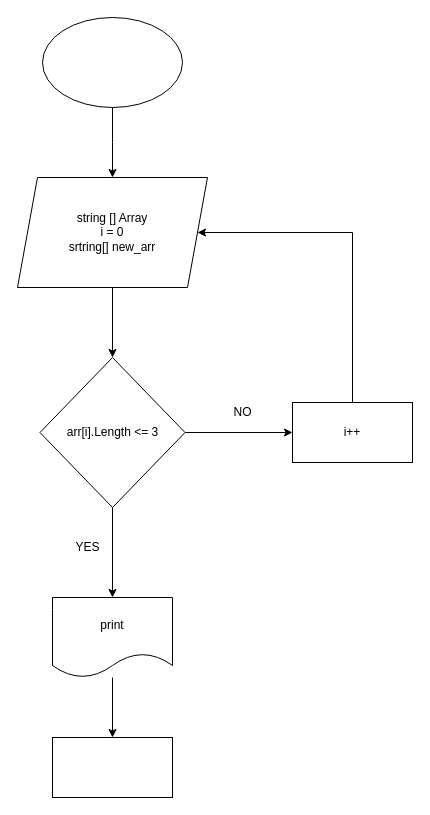
The diagram is 430 pixels wide and 815 high, and some of its shapes have lost their labels. Each missing label, with the box of its shape:
Finish: (52, 736, 172, 798)
start: (42, 16, 182, 108)
